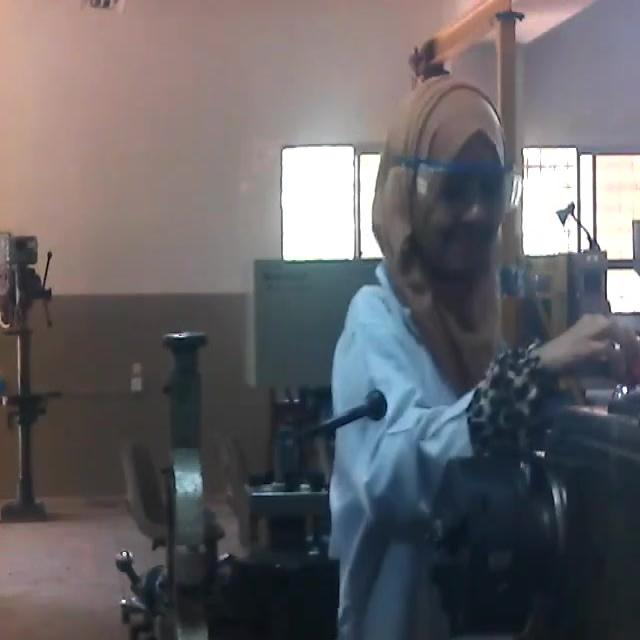googles: (409, 152, 525, 225)
labcoat: (327, 266, 512, 640)
